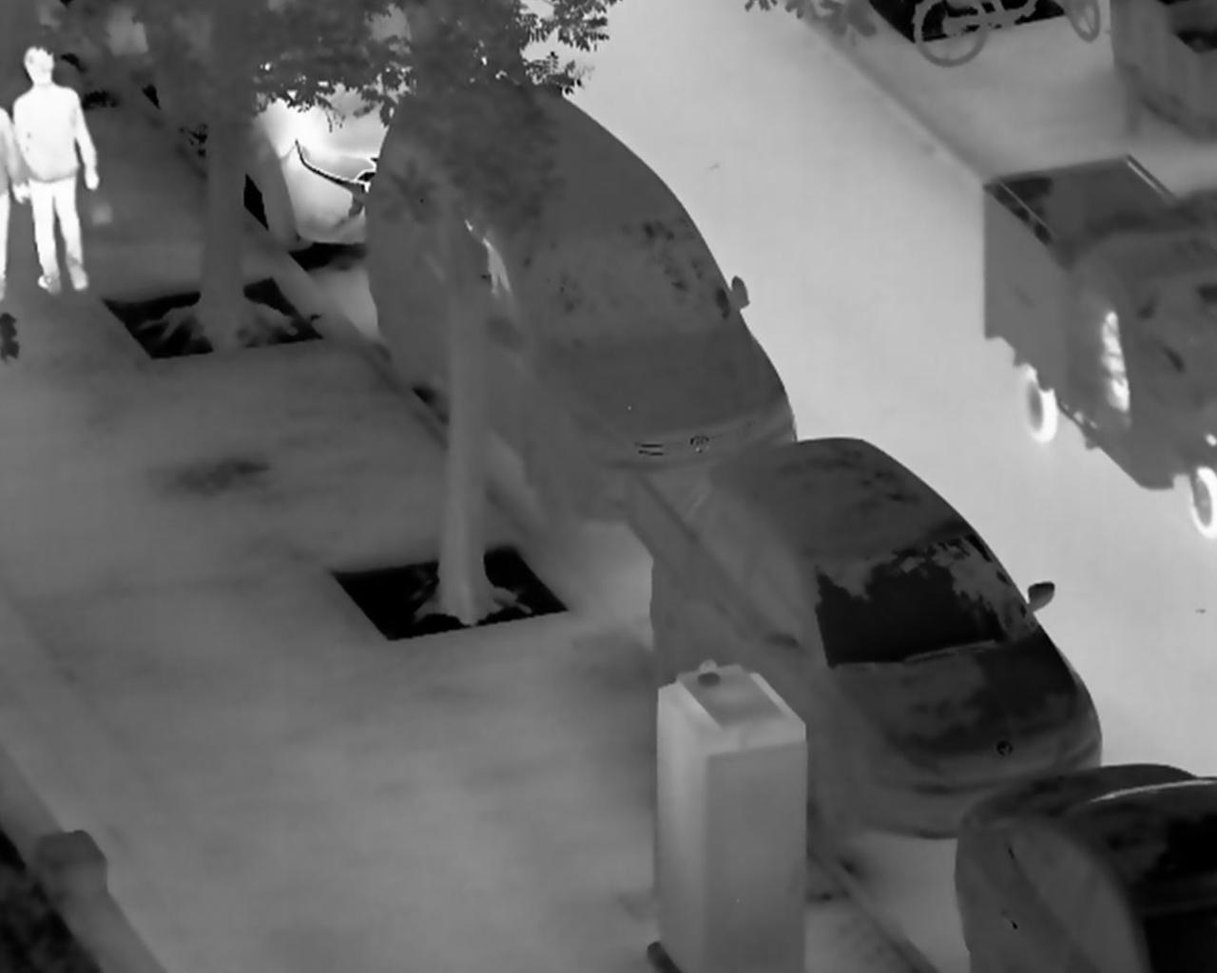person: (10, 45, 100, 302)
